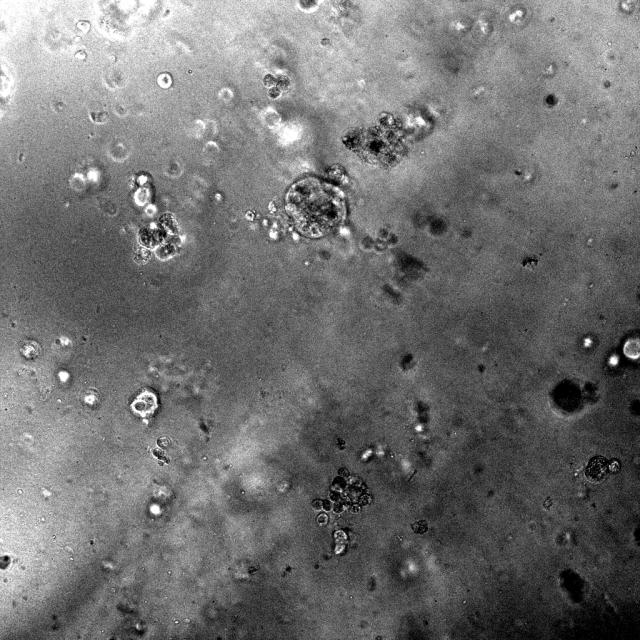organoid: (244, 165, 348, 240), (358, 227, 429, 302), (342, 112, 433, 170), (129, 172, 183, 264), (311, 468, 372, 526), (129, 386, 159, 424), (583, 455, 621, 483), (263, 73, 290, 99), (151, 436, 171, 466), (428, 216, 448, 235), (333, 530, 348, 554), (297, 0, 323, 13), (156, 71, 172, 90), (544, 93, 559, 108), (76, 19, 91, 34), (74, 49, 86, 61)
